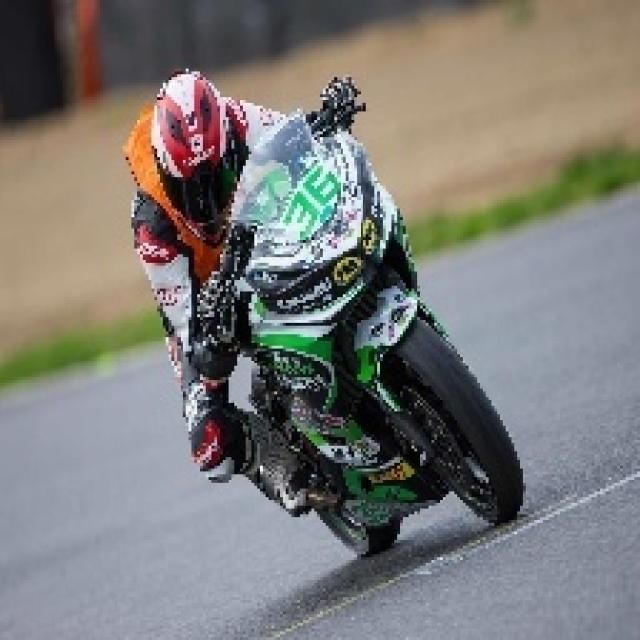motorace: (111, 42, 549, 548)
